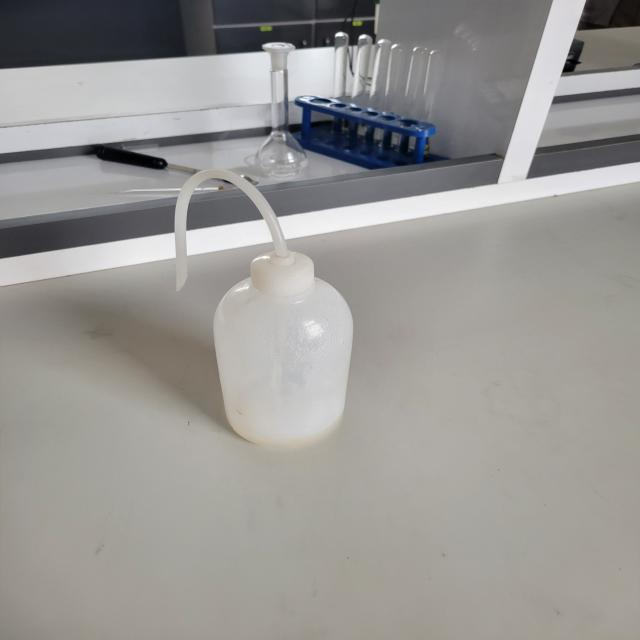Wash_Bottle: (119, 138, 382, 492)
